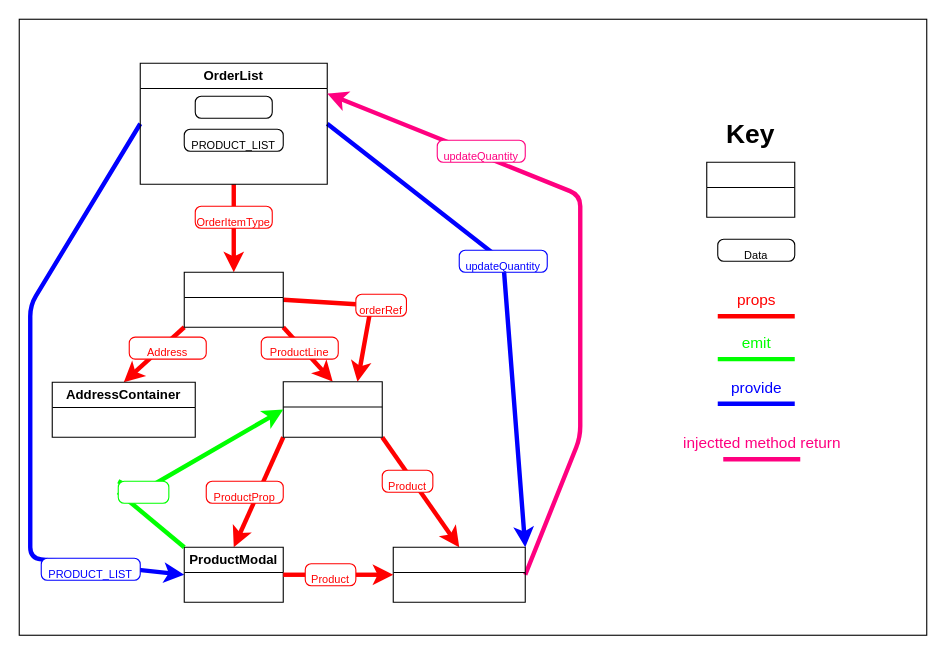
The diagram is 946 pixels wide and 655 high, and some of its shapes have lost their labels. Each missing label, with the box of its shape:
close: (117, 480, 169, 503)
Component: (706, 161, 795, 217)
ORDER_LIST: (194, 95, 272, 118)
OrderItem: (183, 271, 283, 327)
ProductContainer: (392, 546, 525, 602)
ProductList: (282, 381, 382, 437)
